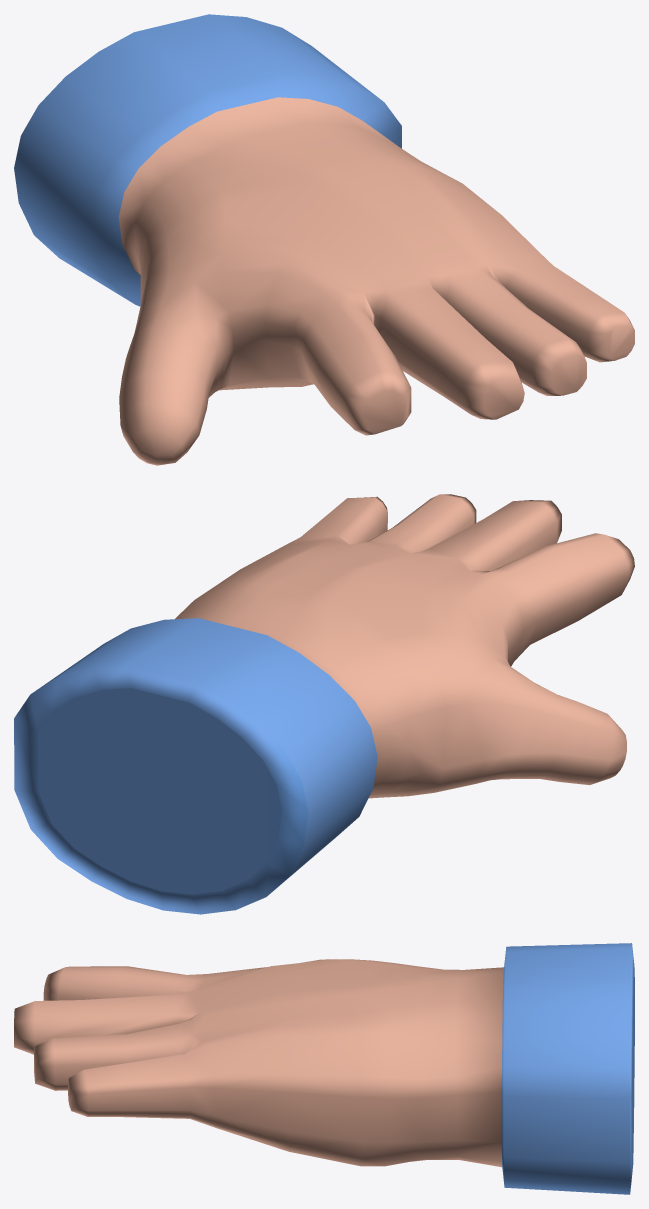
File: Hand.fbx
The picture shows the model from 3 angles, top to bottom: view 1: azimuth 30°, elevation 25°; view 2: azimuth 150°, elevation 25°; view 3: azimuth 270°, elevation 25°; orthographic projection. The views are drawn at different scales.
Visible parts, largest first — view 1: hand; view 2: hand; view 3: hand.
Part boxes in pixels (left/top/right/bottom): hand: left=14, top=14, right=634, bottom=465; hand: left=14, top=494, right=634, bottom=914; hand: left=14, top=943, right=634, bottom=1194.
Size of the model in its own units: 15.45 by 8.73 by 23.54.
Materials: 1 (1 with a texture image).
